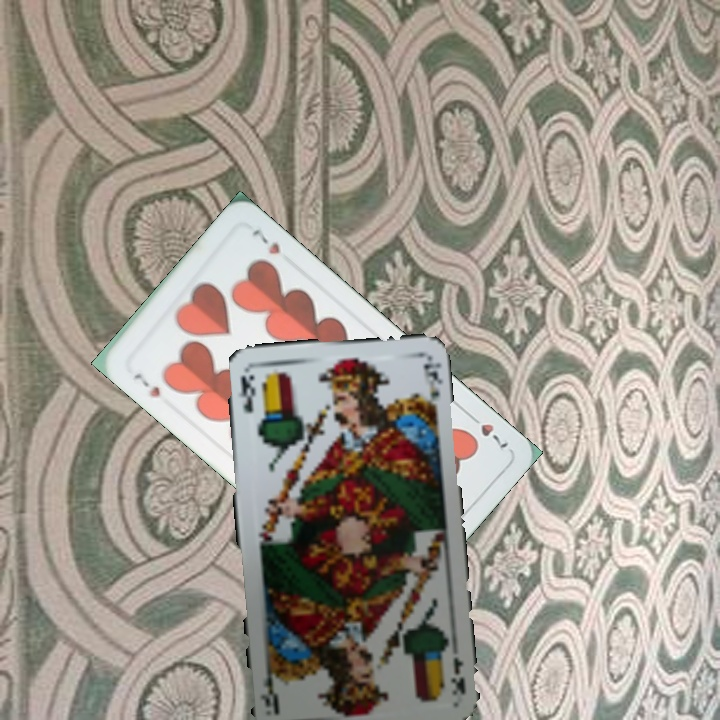EK: (236, 371, 258, 415), (447, 654, 468, 697)
H7: (463, 408, 511, 451), (129, 368, 163, 400)
